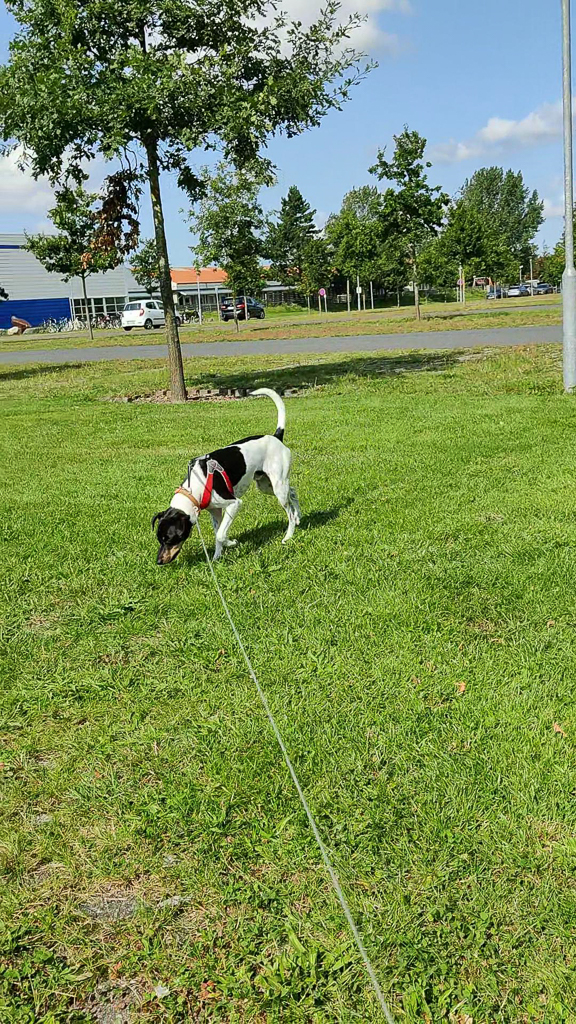Dog: (144, 377, 309, 574)
